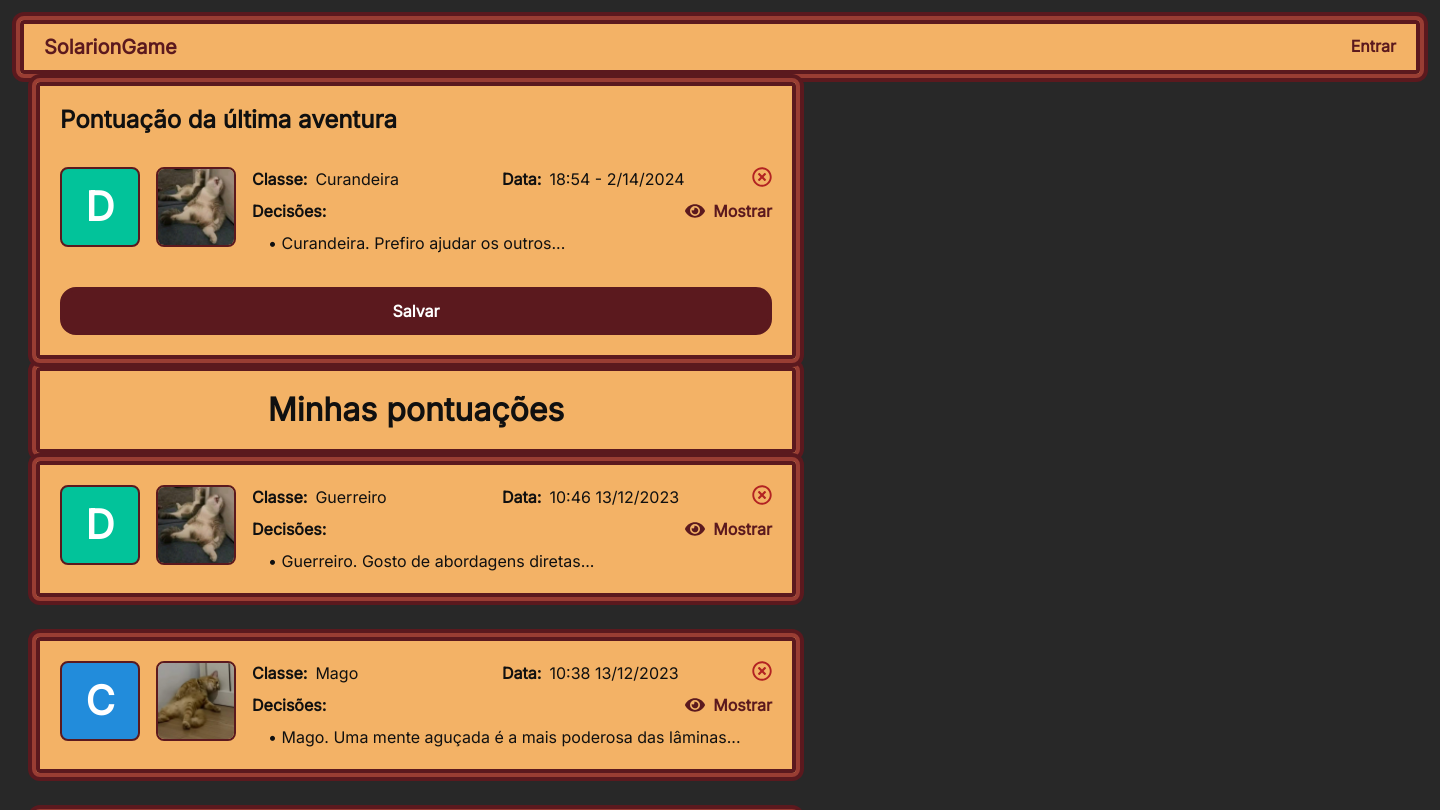
MyScores Page › when have last scenario › and when finished › and when click to remove › should open the delete modal
Expected: the heading "Pontuação da última aventura" is shown, 60,105 -> 397,134
Step 1. Click the 1st icon → {"x": 762, "y": 177}, box 752,167 -> 772,187
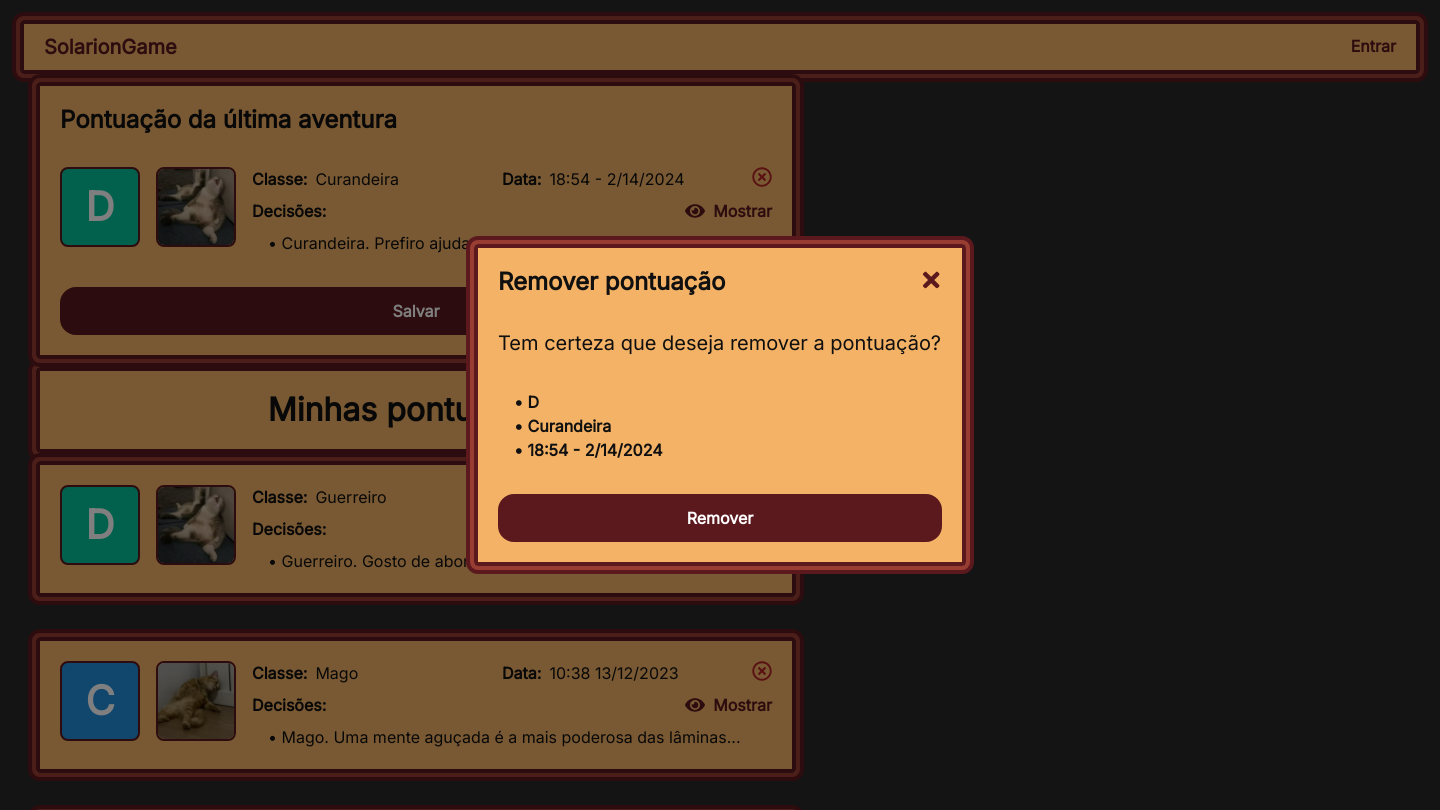
Expected: the dialog is shown, 470,240 -> 970,570
